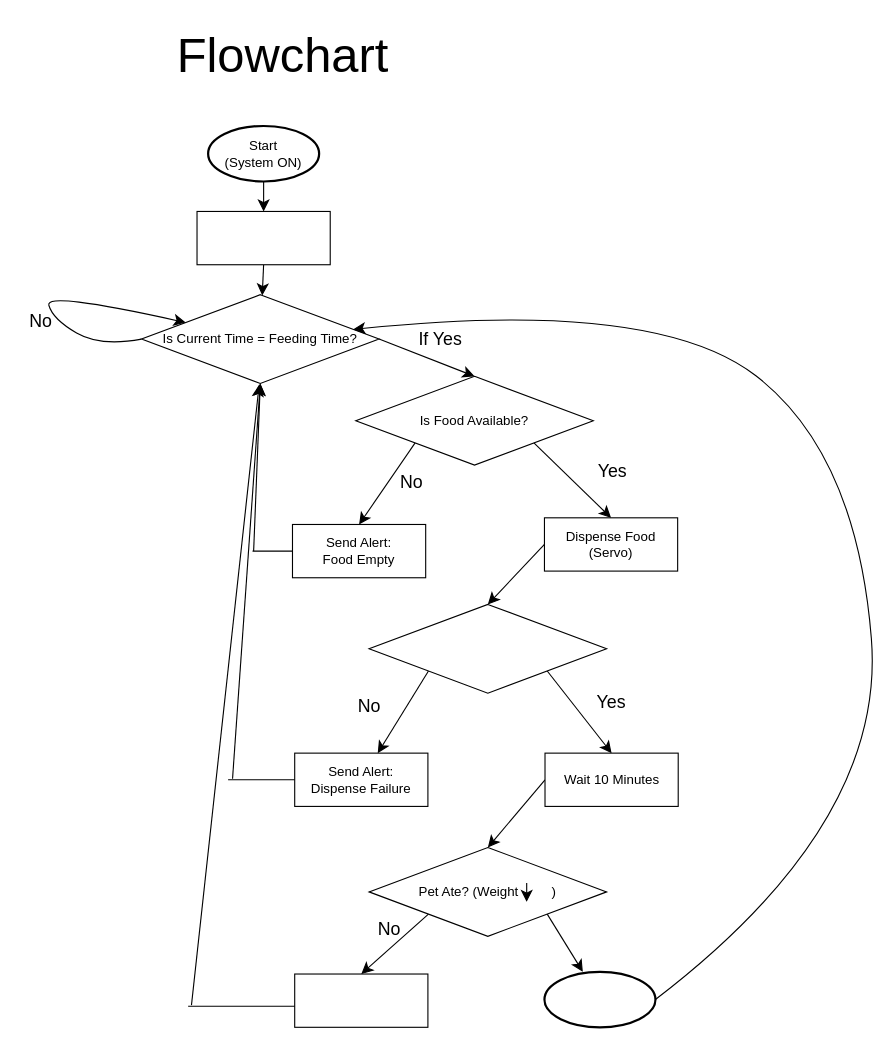
Some shapes in this 892 by 1047 pixel diagram are drawn without their labels. Here are the shapes that lost their labels. From the top down, the centre of each, then its label:
the point at 263,237: Load Feeding Schedule
the point at 487,648: Bowl Weight Increased?
the point at 361,1000: Send Alert: Pet Did Not Eat
the point at 599,999: END / Repeat
